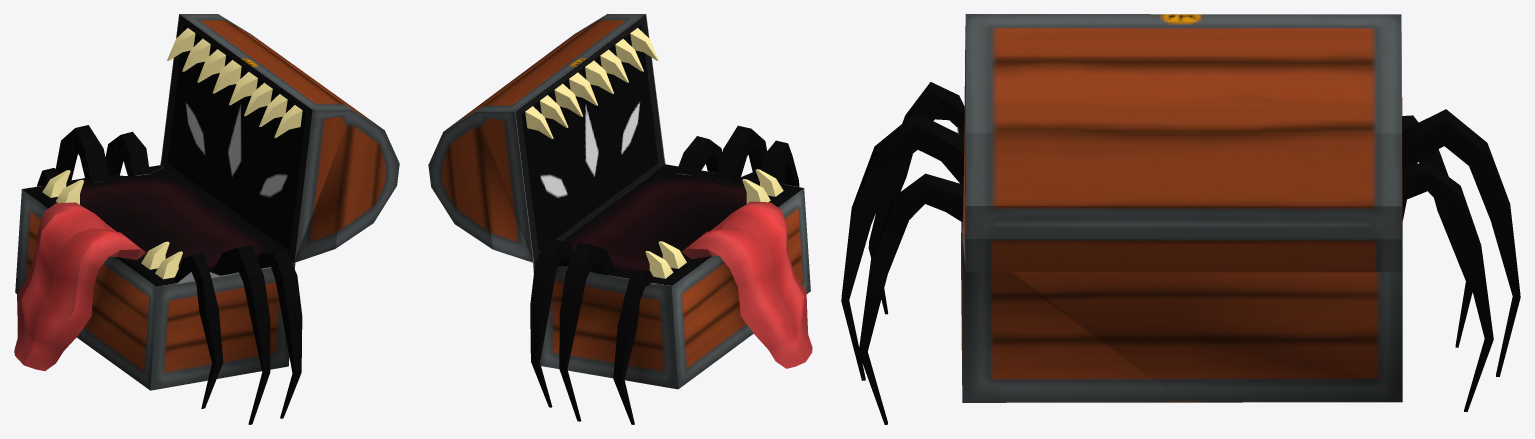
The model's file is cofrearana_000026.obj.
3 renders of one model, left to right at view 1: azimuth 30°, elevation 25°; view 2: azimuth 150°, elevation 25°; view 3: azimuth 270°, elevation 25°, orthographic. The views are drawn at different scales.
Parts seen in each view (by area): view 1: cofreArana:Mesh; view 2: cofreArana:Mesh; view 3: cofreArana:Mesh.
Part boxes in pixels (x1,y1,x2,y2): cofreArana:Mesh: (14, 14, 399, 424); cofreArana:Mesh: (428, 14, 812, 424); cofreArana:Mesh: (841, 14, 1520, 424).
Size of the model in its own units: 8.49 by 7.21 by 9.77.
